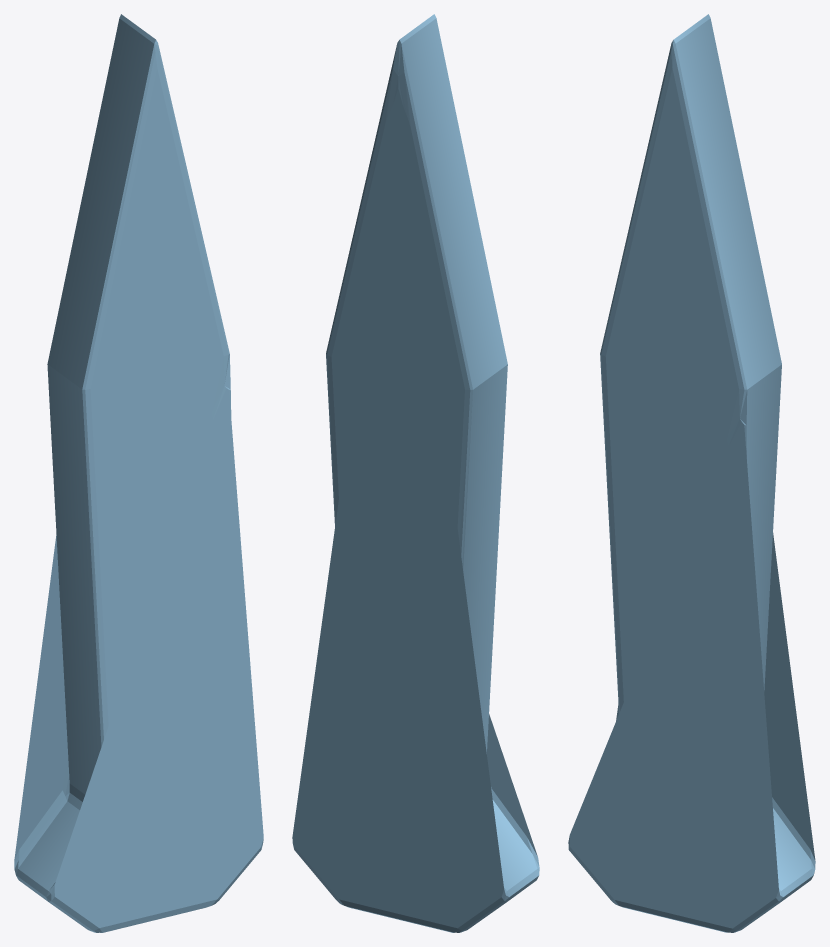
File: Eula_IcewhirlBrand_2Swords_IcewhirlSword.fbx
The picture shows the model from 3 angles, left to right: view 1: azimuth 30°, elevation 25°; view 2: azimuth 150°, elevation 25°; view 3: azimuth 330°, elevation 25°; orthographic projection.
Parts seen in each view (by area): view 1: PART_IcewhirlFacetedBlade; view 2: PART_IcewhirlFacetedBlade; view 3: PART_IcewhirlFacetedBlade.
Part boxes in pixels (x1=…): PART_IcewhirlFacetedBlade: x1=14, y1=14, x2=263, y2=932; PART_IcewhirlFacetedBlade: x1=292, y1=14, x2=539, y2=932; PART_IcewhirlFacetedBlade: x1=568, y1=14, x2=815, y2=932.
Size of the model in its own units: 46.66 by 183 by 14.
